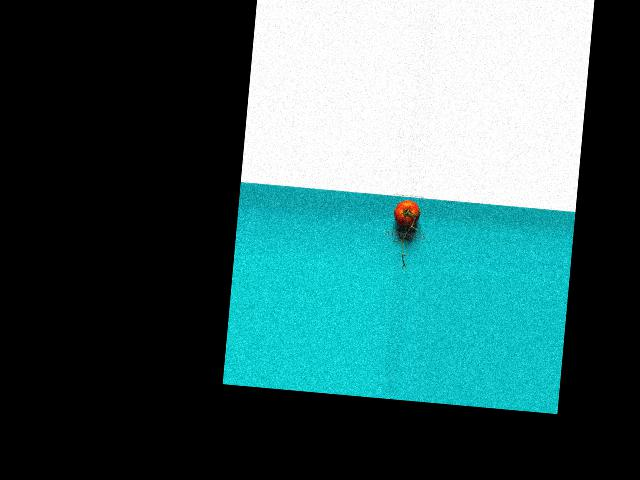tomato: (393, 199, 421, 227)
